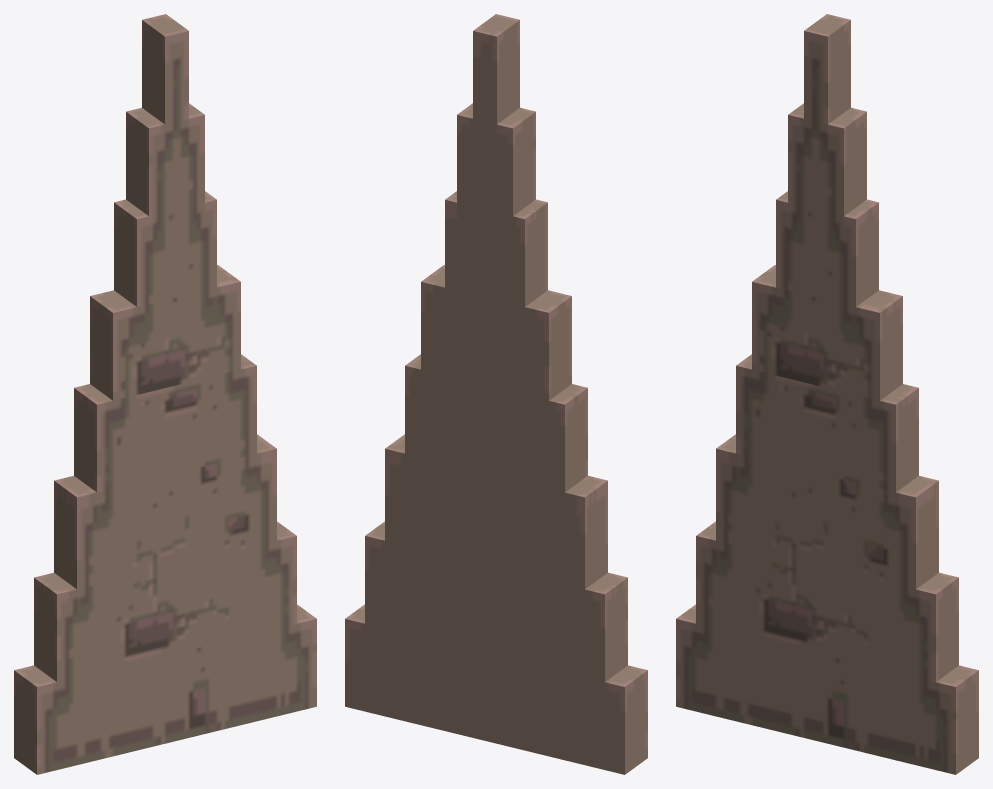
File: Roof_Wall-0.fbx
The picture shows the model from 3 angles, left to right: view 1: azimuth 30°, elevation 25°; view 2: azimuth 150°, elevation 25°; view 3: azimuth 330°, elevation 25°; orthographic projection.
Parts seen in each view (by area): view 1: Roof_Wall-0; view 2: Roof_Wall-0; view 3: Roof_Wall-0.
Boxes of the visible parts, box(x1,y1,x2,y2) form: Roof_Wall-0: box(14, 14, 316, 774); Roof_Wall-0: box(345, 14, 647, 774); Roof_Wall-0: box(676, 14, 978, 774).
Bounding box in the file's own units: 350 × 845 × 50.
